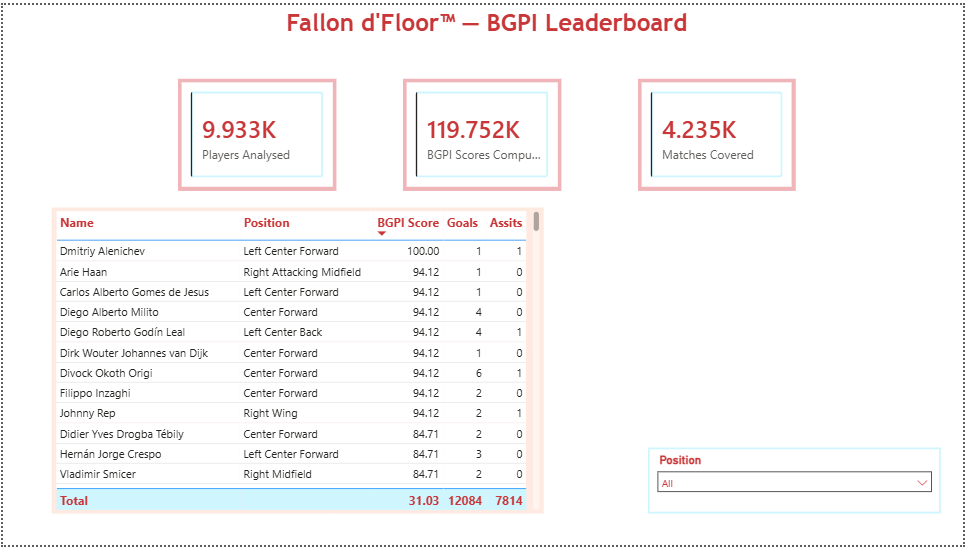

The dashboard page shown, as its layout file describes it:
{"tool":"powerbi","page":{"name":"BGPI Leaderboard","canvas":[1280,720],"ordinal":0},"visuals":[{"type":"textbox","title":"                                    ","box":[10.3,0,1270,57.5],"z":0},{"type":"tableEx","fields":{"Values":["public players.name","public players.position","Avg(public bgpi_scores.bgpi_normalised)","Sum(public player_match_stats.goals)","Sum(public player_match_stats.assists)"]},"box":[64.8,269.6,655.6,408.1],"z":1000},{"type":"cardVisual","fields":{"Data":["CountNonNull(public players.player_id)"]},"box":[233.9,98.3,211.5,149.3],"z":2000},{"type":"cardVisual","fields":{"Data":["CountNonNull(public bgpi_scores.bgpi_id)"]},"box":[533.7,98.3,211.5,149.3],"z":3000},{"type":"cardVisual","fields":{"Data":["CountNonNull(public matches.match_id)"]},"box":[845.9,98.3,210.2,149.3],"z":4000},{"type":"slicer","fields":{"Values":["public players.position"]},"box":[860.8,589.6,390.6,88.3],"z":5000}]}

Visuals, with their boxes in screenshot pixels (x1, y1, x2, y2), scaled from the page's 1280x720 canvas onto the 969x555 screenshot:
"                                    " textbox: {"left": 8, "top": 0, "right": 968, "bottom": 44}
tableEx - public players.name x public players.position: {"left": 49, "top": 208, "right": 545, "bottom": 522}
cardVisual - CountNonNull(public players.player_id): {"left": 177, "top": 76, "right": 337, "bottom": 191}
cardVisual - CountNonNull(public bgpi_scores.bgpi_id): {"left": 404, "top": 76, "right": 564, "bottom": 191}
cardVisual - CountNonNull(public matches.match_id): {"left": 640, "top": 76, "right": 800, "bottom": 191}
slicer - public players.position: {"left": 652, "top": 454, "right": 947, "bottom": 523}
